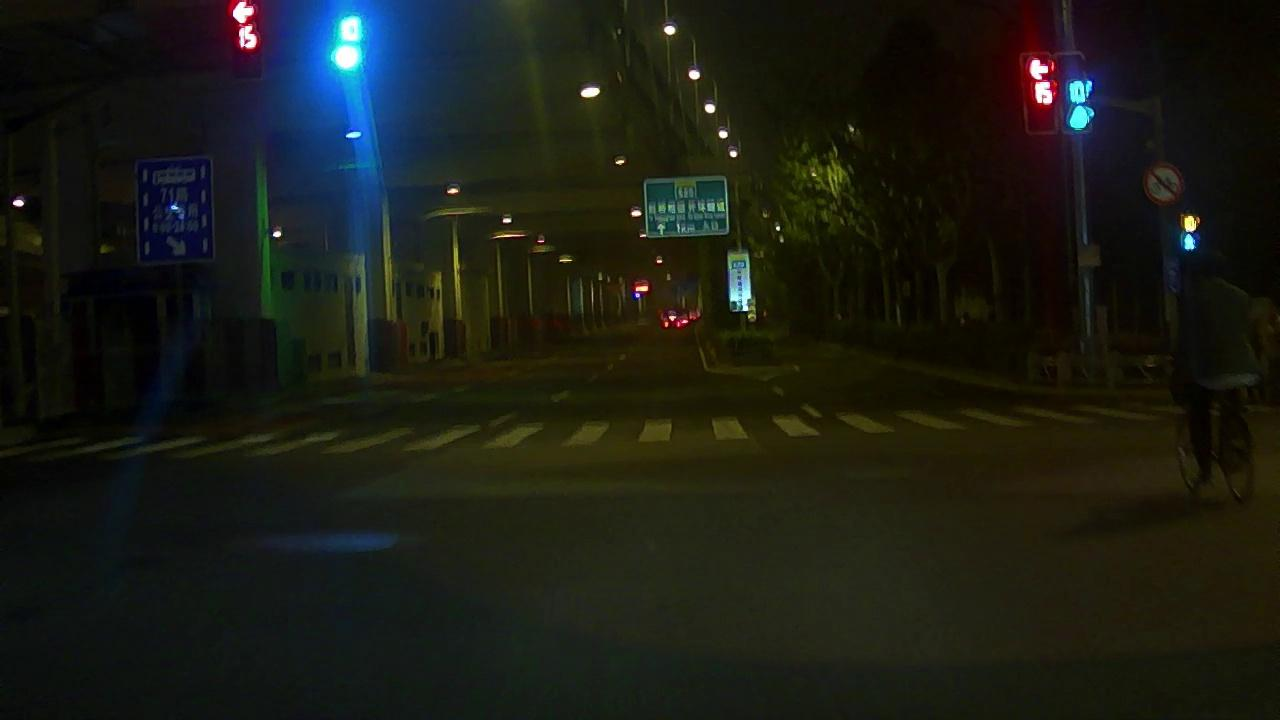traffic_light: (1057, 56, 1091, 138), (1026, 57, 1053, 134), (232, 1, 259, 75), (331, 15, 363, 70)
